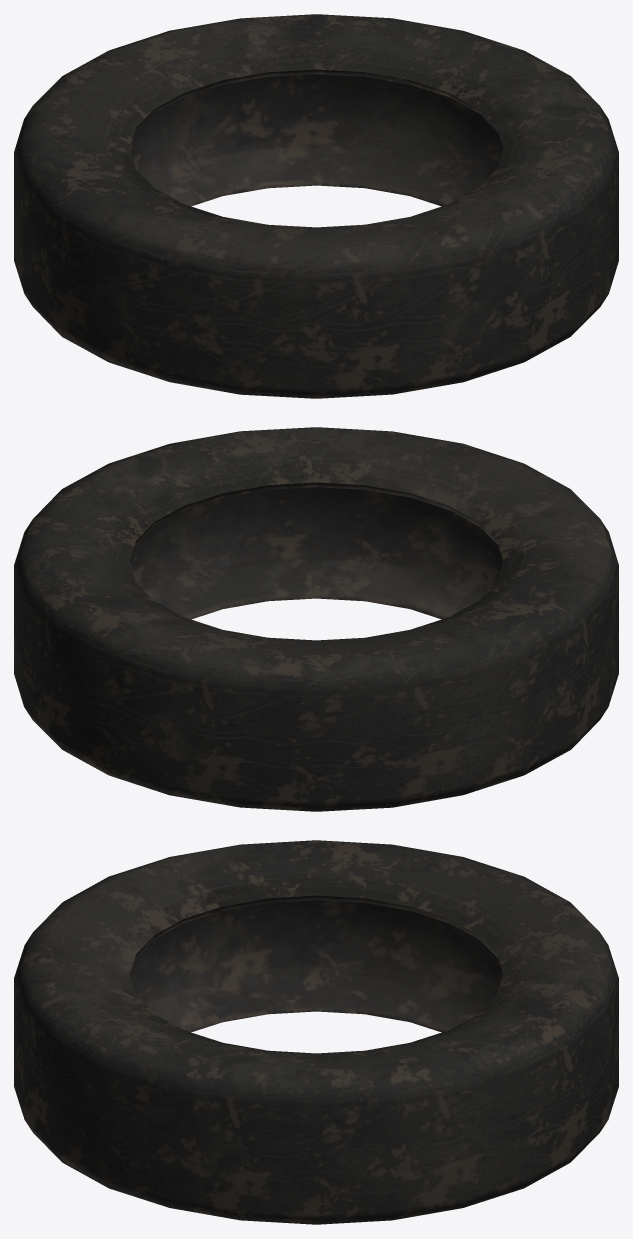
File: TrTireA2.fbx
3 renders of one model, top to bottom at view 1: azimuth 30°, elevation 25°; view 2: azimuth 150°, elevation 25°; view 3: azimuth 270°, elevation 25°, orthographic.
Visible parts, largest first — view 1: TrTireA2_LOD0; view 2: TrTireA2_LOD0; view 3: TrTireA2_LOD0.
Part boxes in pixels (box(x1,y1,x2,y2)): TrTireA2_LOD0: box(14, 14, 618, 398); TrTireA2_LOD0: box(14, 427, 618, 811); TrTireA2_LOD0: box(14, 840, 618, 1224).
Size of what is drawn, in the model's own units: 63.69 by 17.68 by 63.69.
Materials: 1 (1 with a texture image).
